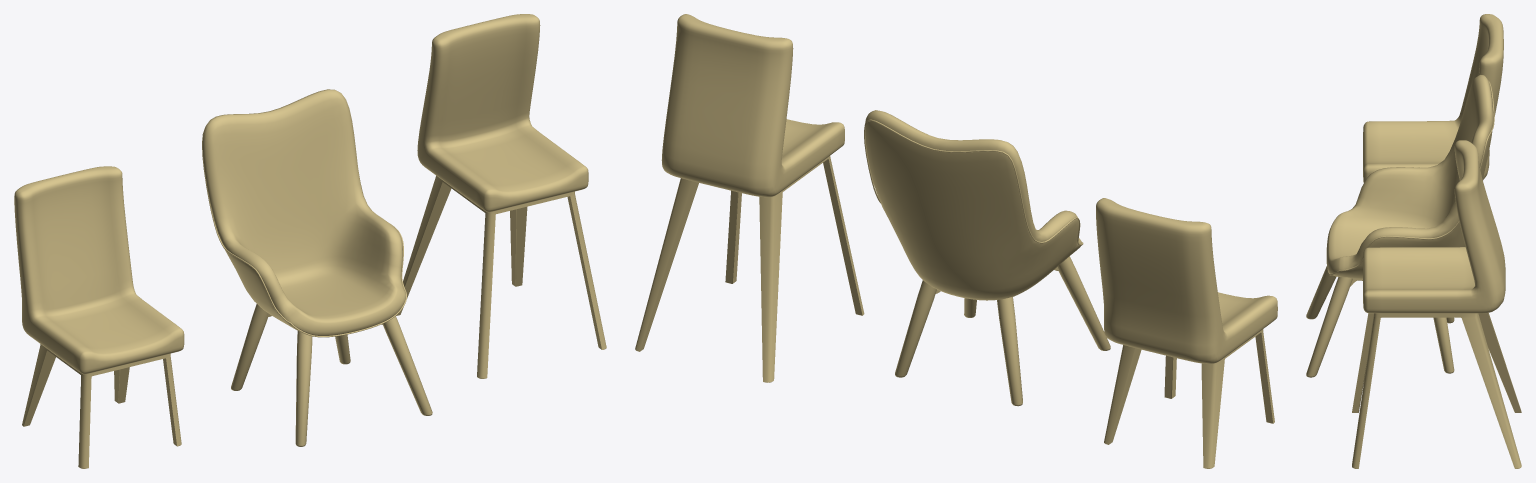
The model's file is Chairs.fbx.
3 renders of one model, left to right at view 1: azimuth 30°, elevation 25°; view 2: azimuth 150°, elevation 25°; view 3: azimuth 270°, elevation 25°, orthographic. The views are drawn at different scales.
Visible parts, largest first — view 1: SM_Armchair, SM_Chair_L, SM_Chair_S; view 2: SM_Chair_L, SM_Armchair, SM_Chair_S; view 3: SM_Chair_L, SM_Armchair, SM_Chair_S.
Part boxes in pixels (box(x1,y1,x2,y2)): SM_Armchair: box(202, 89, 432, 446); SM_Chair_L: box(396, 14, 606, 378); SM_Chair_S: box(14, 166, 184, 468); SM_Chair_L: box(635, 14, 864, 382); SM_Armchair: box(864, 110, 1110, 406); SM_Chair_S: box(1096, 198, 1277, 468); SM_Chair_L: box(1352, 140, 1521, 468); SM_Armchair: box(1306, 75, 1494, 377); SM_Chair_S: box(1363, 14, 1503, 182).
Size of the model in its own units: 258 by 139 by 97.98.
